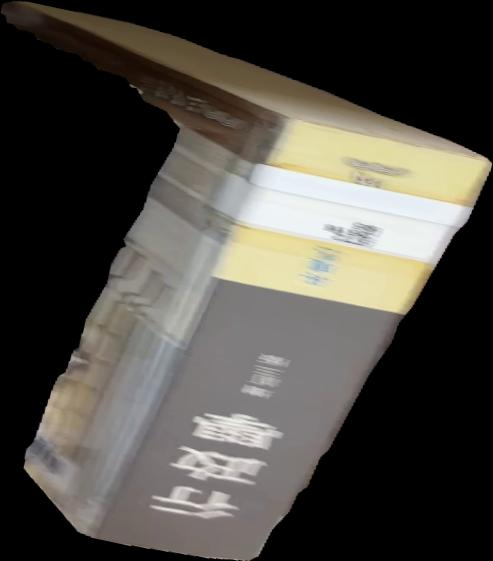reverse: (1, 1, 493, 561)
